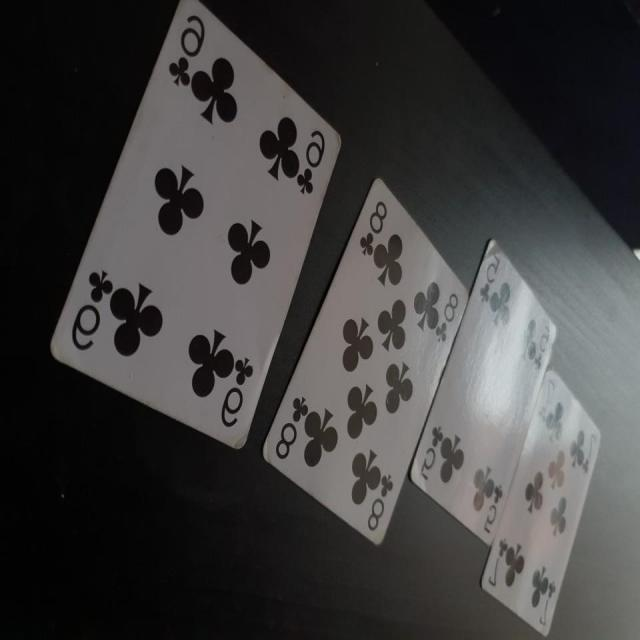5 of clubs: (410, 238, 556, 546)
6 of clubs: (43, 1, 342, 450)
7 of clubs: (479, 368, 606, 638)
8 of clubs: (259, 177, 469, 548)
